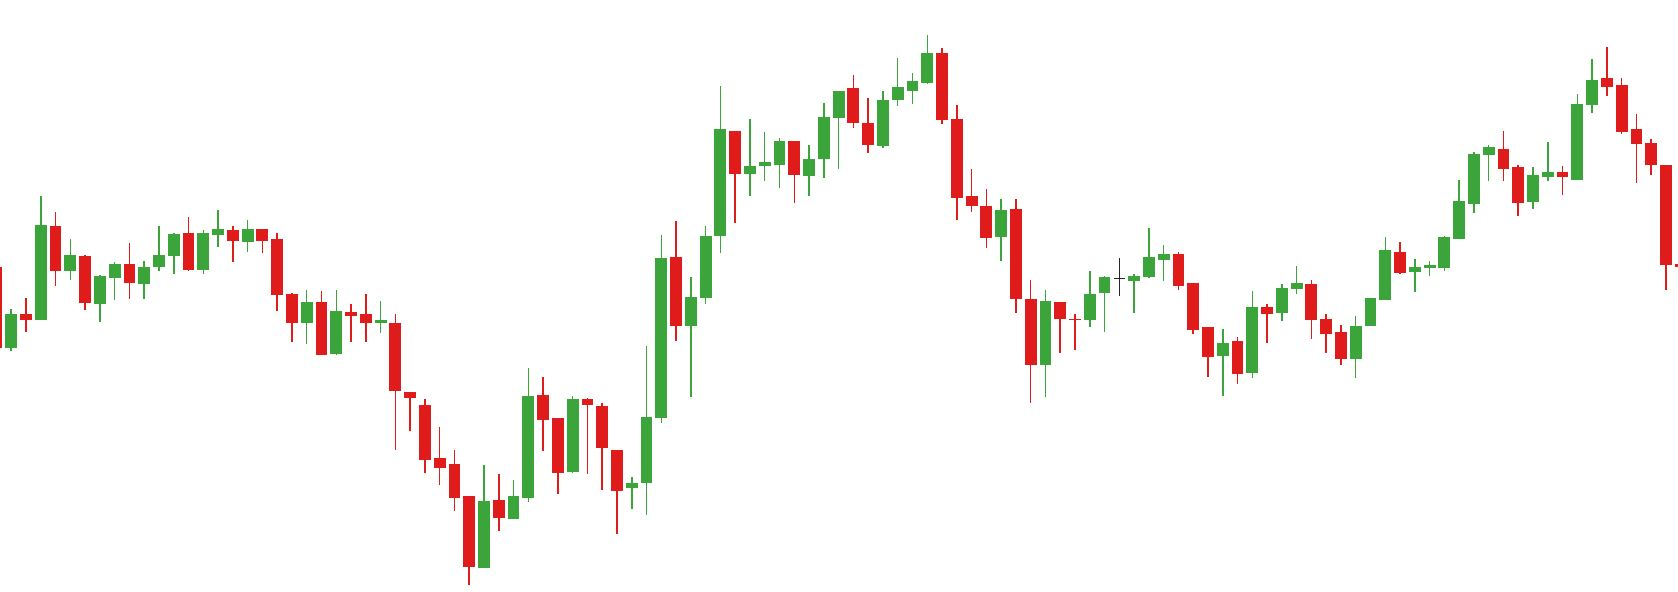buy: (1054, 276, 1227, 399), (550, 411, 637, 536)
